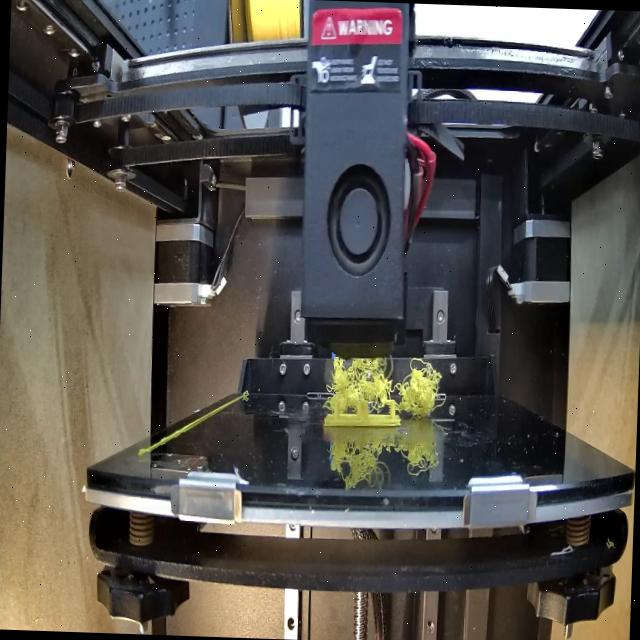spaghetti: (328, 344, 446, 420)
